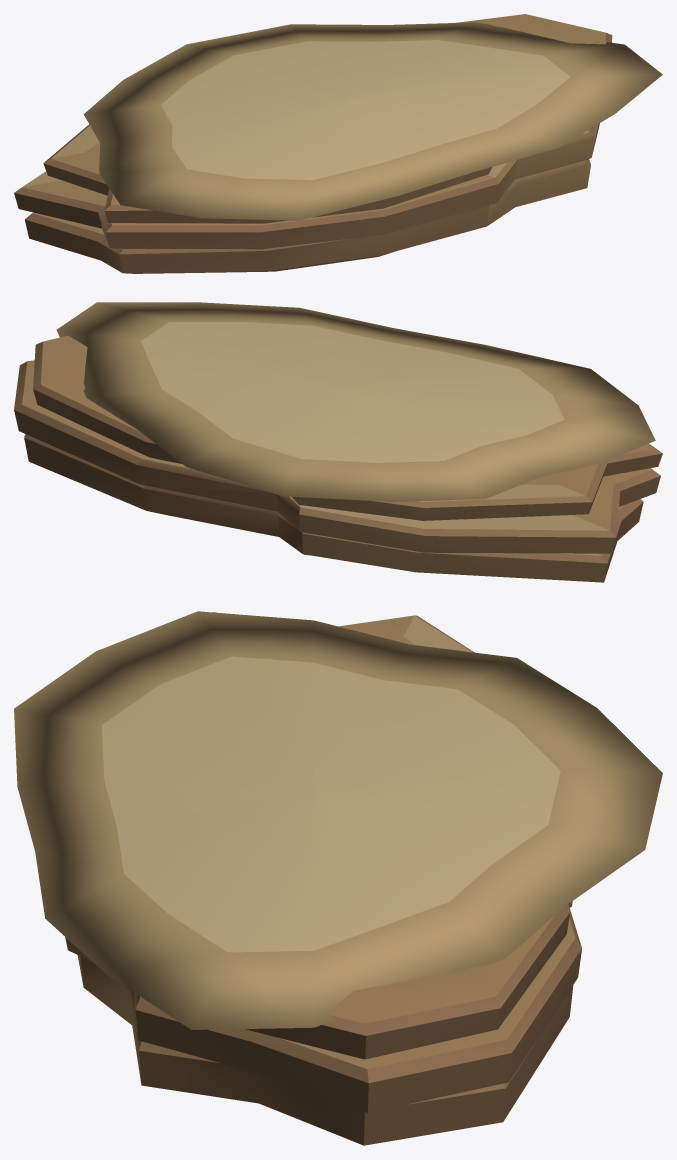
The model's file is fw_terrain_sand_profile.glb.
3 views of the same model, one above another, from view 1: azimuth 30°, elevation 25°; view 2: azimuth 150°, elevation 25°; view 3: azimuth 270°, elevation 25° (orthographic). The views are drawn at different scales.
Parts seen in each view (by area): view 1: body; view 2: body; view 3: body.
Part boxes in pixels (box(x1,y1,x2,y2)): body: box(14, 14, 662, 273); body: box(14, 302, 662, 582); body: box(14, 611, 662, 1145).
Size of the model in its own units: 4.27 by 0.65 by 2.54.
